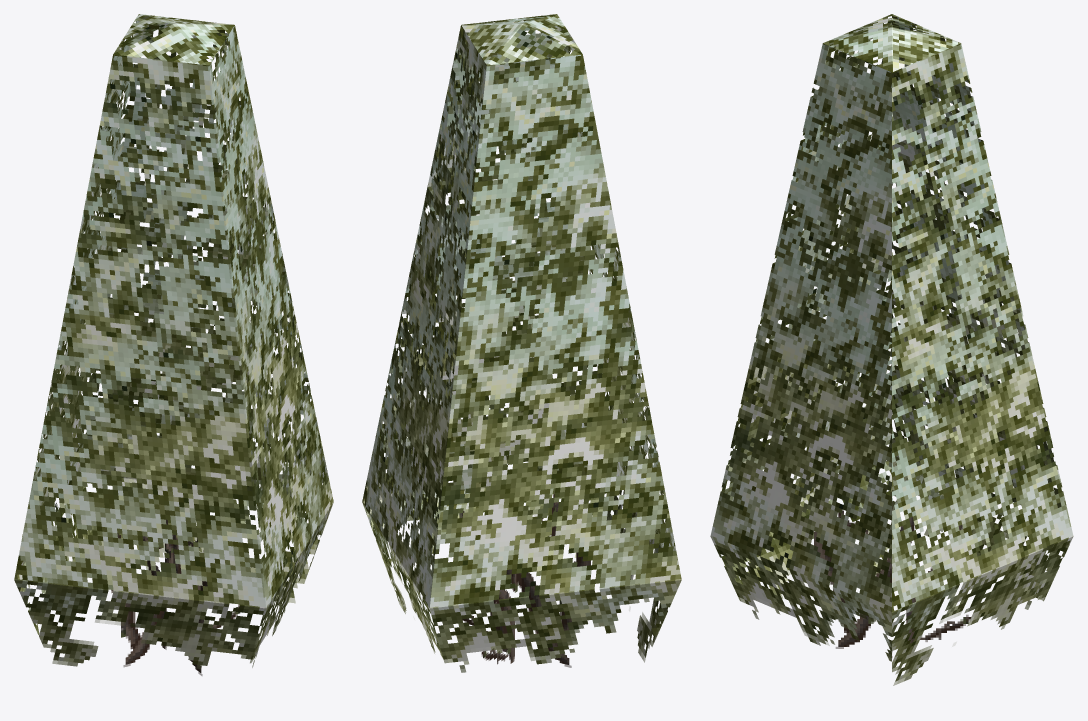
File: bush_end_tall_roots_winter.glb
The picture shows the model from 3 angles, left to right: view 1: azimuth 30°, elevation 25°; view 2: azimuth 150°, elevation 25°; view 3: azimuth 270°, elevation 25°; orthographic projection.
Visible parts, largest first — view 1: bush_end_tall_roots_winter; view 2: bush_end_tall_roots_winter; view 3: bush_end_tall_roots_winter.
Boxes of the visible parts, x1,y1,x2,y2 form: bush_end_tall_roots_winter: [14, 14, 333, 675]; bush_end_tall_roots_winter: [362, 14, 681, 672]; bush_end_tall_roots_winter: [710, 14, 1073, 685].
Bounding box in the file's own units: 1.39 × 2.63 × 1.39.
2 materials, 2 textured.
